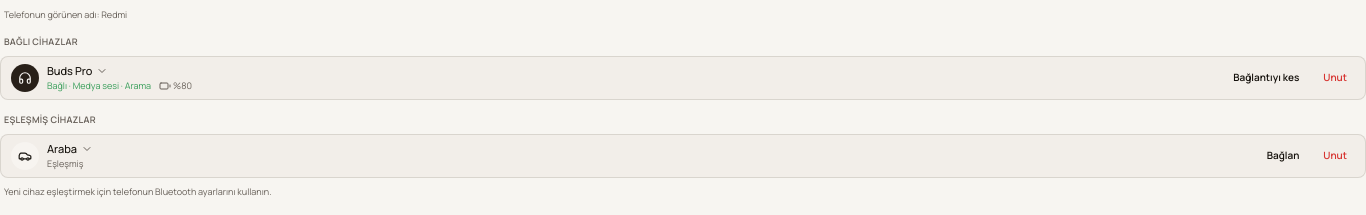
Test: BluetoothDetail › an action the phone refuses is hidden for the session
Click the button "Bağlan" at [1283, 156], box [1259,144,1307,168]
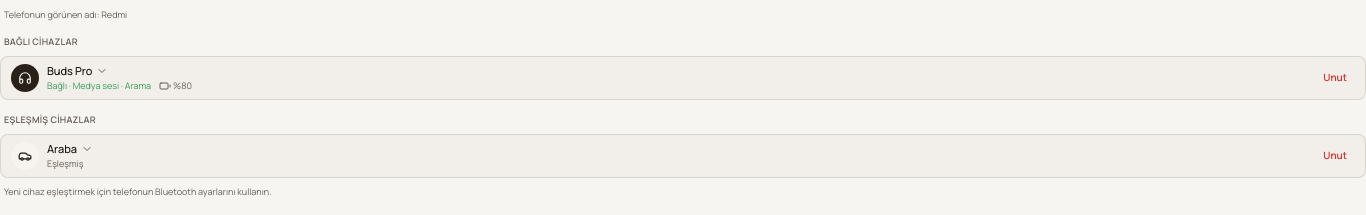
Check: the number of buttons named "cihazını unut" is 2, box [1315,66,1355,90]; [1315,144,1355,168]
Check: the button "Bağlan" is gone
Check: the button "Bağlantıyı kes" is gone
